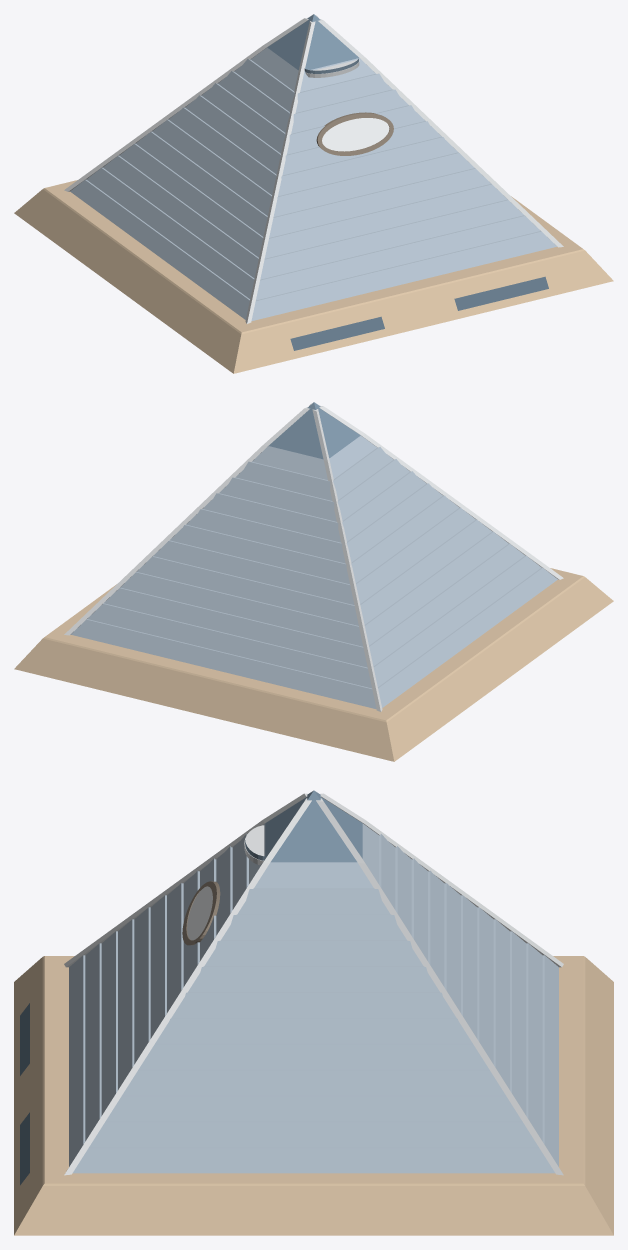
The model's file is mem-pyramid.glb.
The picture shows the model from 3 angles, top to bottom: view 1: azimuth 30°, elevation 25°; view 2: azimuth 150°, elevation 25°; view 3: azimuth 270°, elevation 25°; orthographic projection. The views are drawn at different scales.
Parts seen in each view (by area): view 1: Memphis Pyramid; view 2: Memphis Pyramid; view 3: Memphis Pyramid.
Boxes of the visible parts, x1=… form: Memphis Pyramid: x1=14, y1=14, x2=613, y2=373; Memphis Pyramid: x1=14, y1=402, x2=613, y2=761; Memphis Pyramid: x1=14, y1=790, x2=613, y2=1235.
Size of the model in its own units: 167 by 97.8 by 167.
